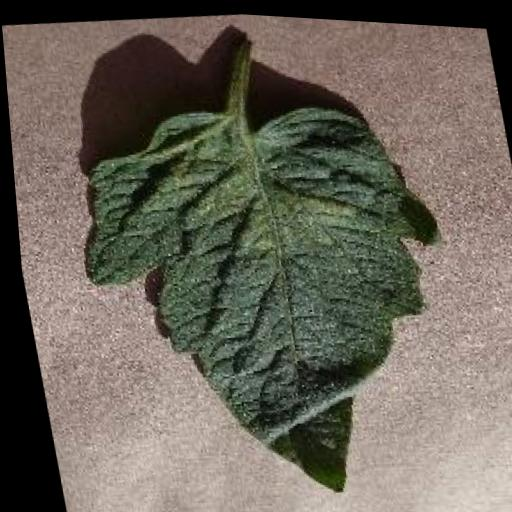Spider Mites: (55, 77, 480, 512)
